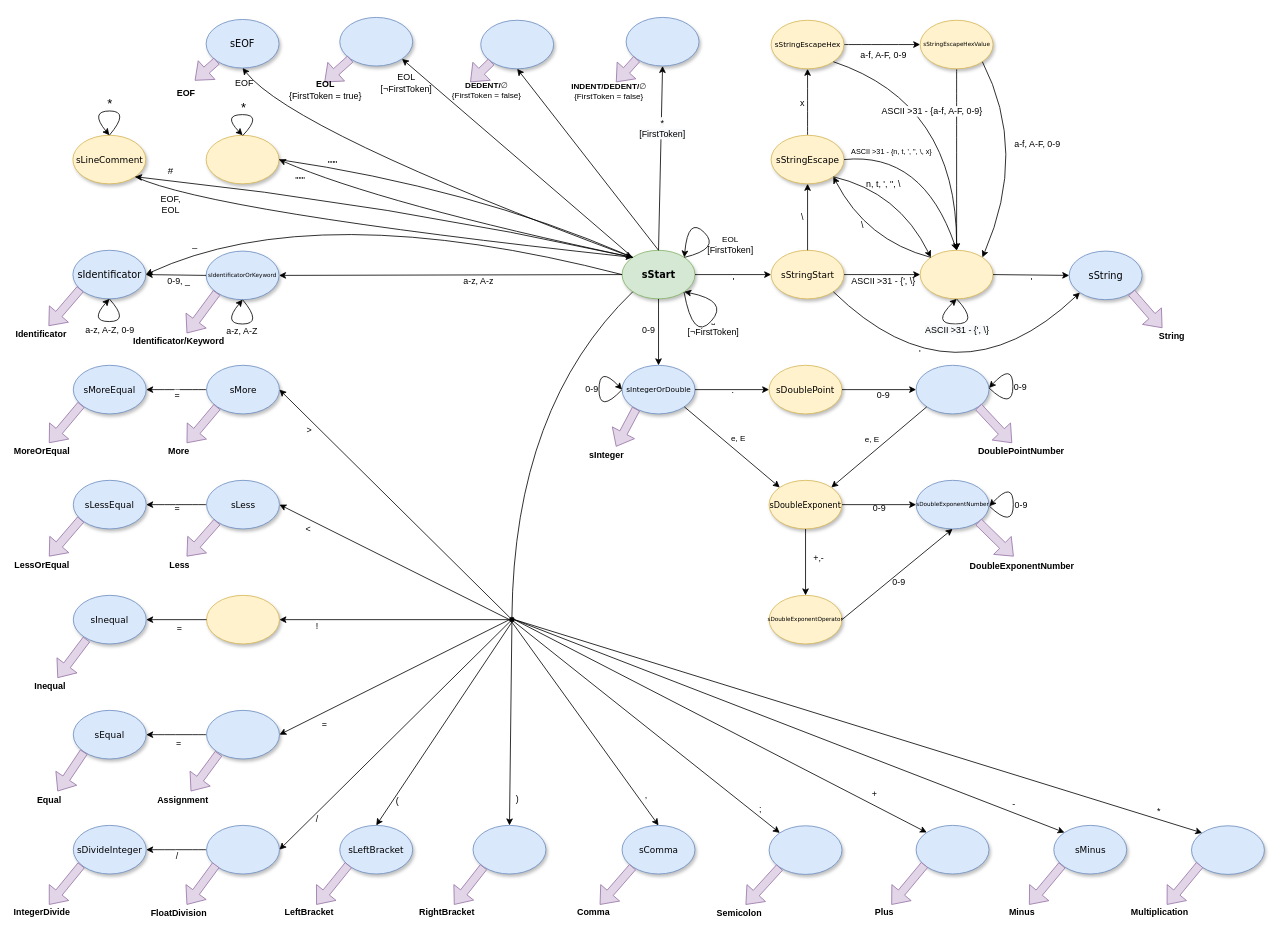
The diagram is 1284 pixels wide and 932 high, and some of its shapes have lost their labels. Here are the shapes that lost their labels. From the top down, the centre of each, then its label:
the point at 377,42: sEOL
the point at 517,45: sDentEnd
the point at 663,42: sDentDecide
the point at 243,160: sBlockComment
the point at 957,275: sStringRead
the point at 953,390: sDoublePointNumber
the point at 243,620: sInequalMid
the point at 243,735: sAssignment
the point at 243,850: sDivideFloat
the point at 510,850: sRightBracket
the point at 806,851: sSemicolon
the point at 953,850: sPlus
the point at 1228,851: sMultiplication
